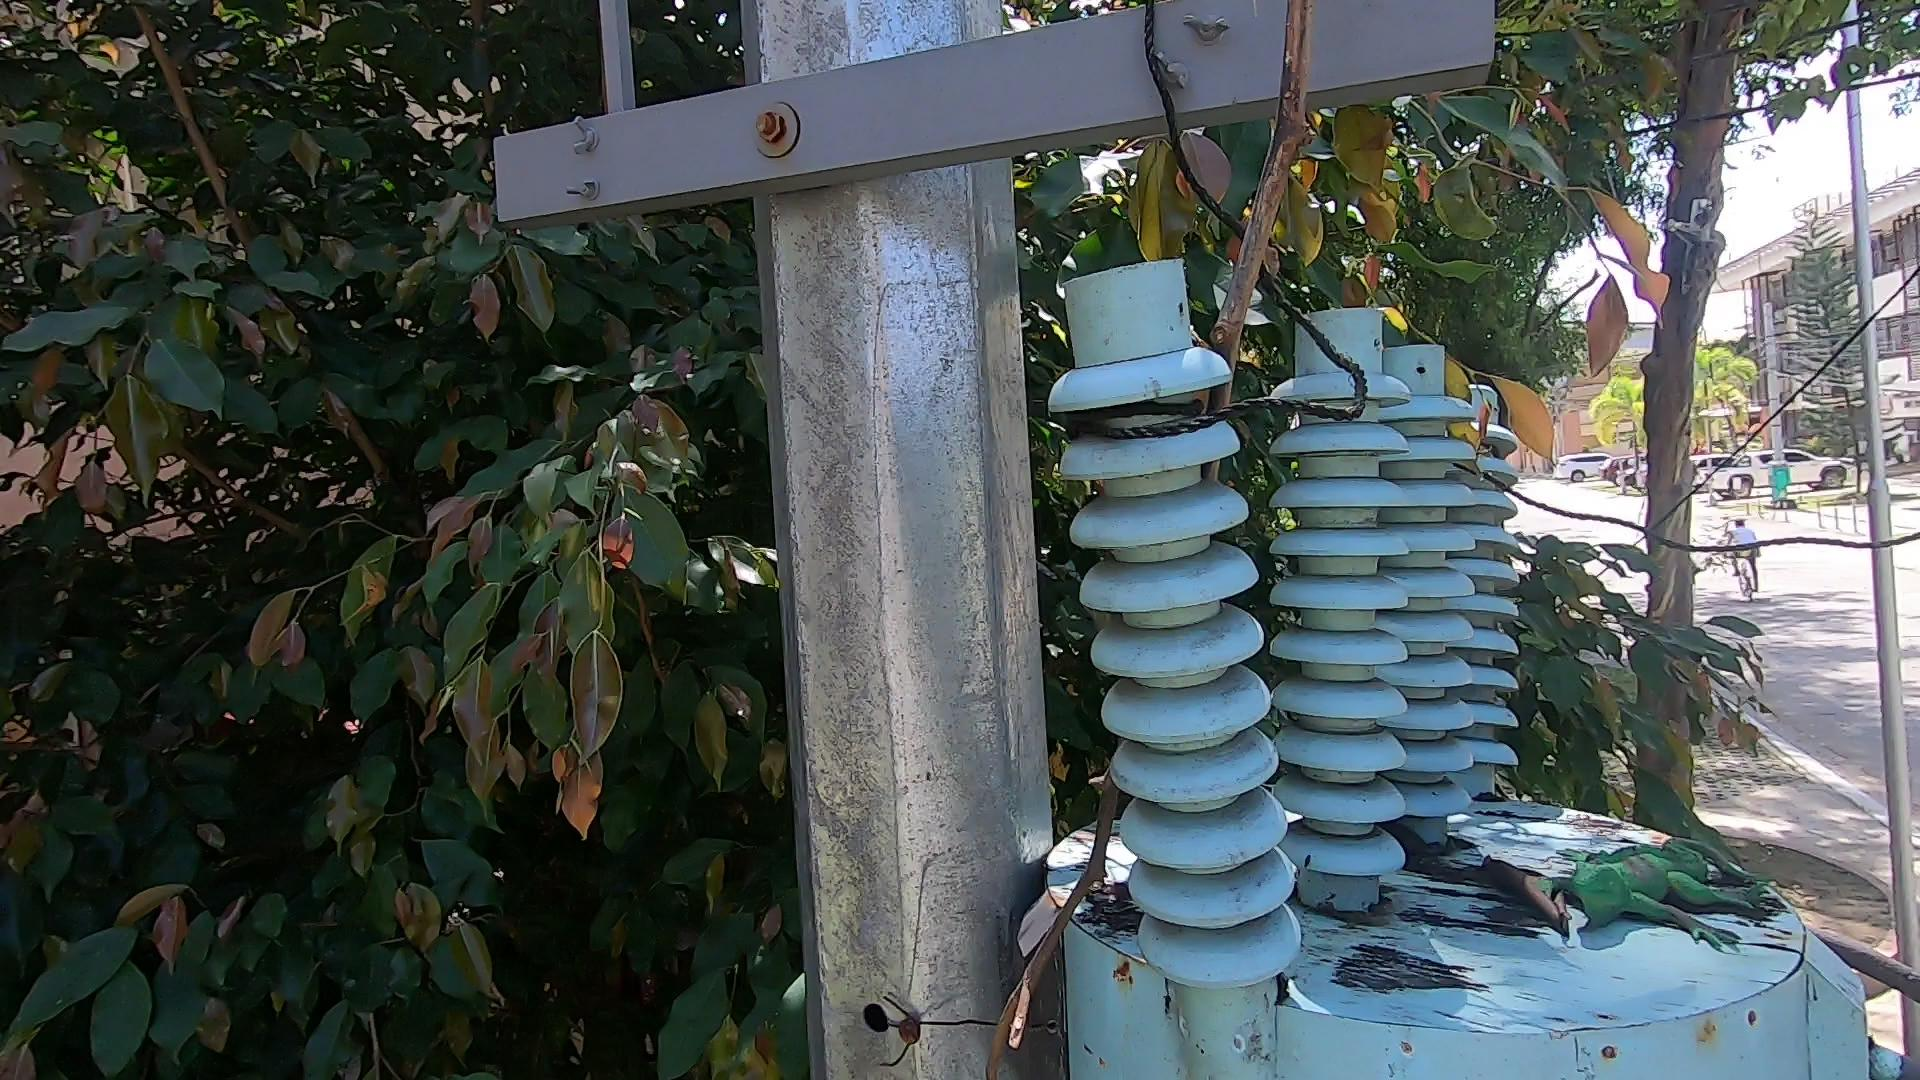branch with leaves: (1377, 293, 1610, 487)
leaf: (1474, 851, 1572, 944), (1383, 816, 1452, 864), (1081, 877, 1145, 920)
tree branch: (951, 3, 1346, 1080)
